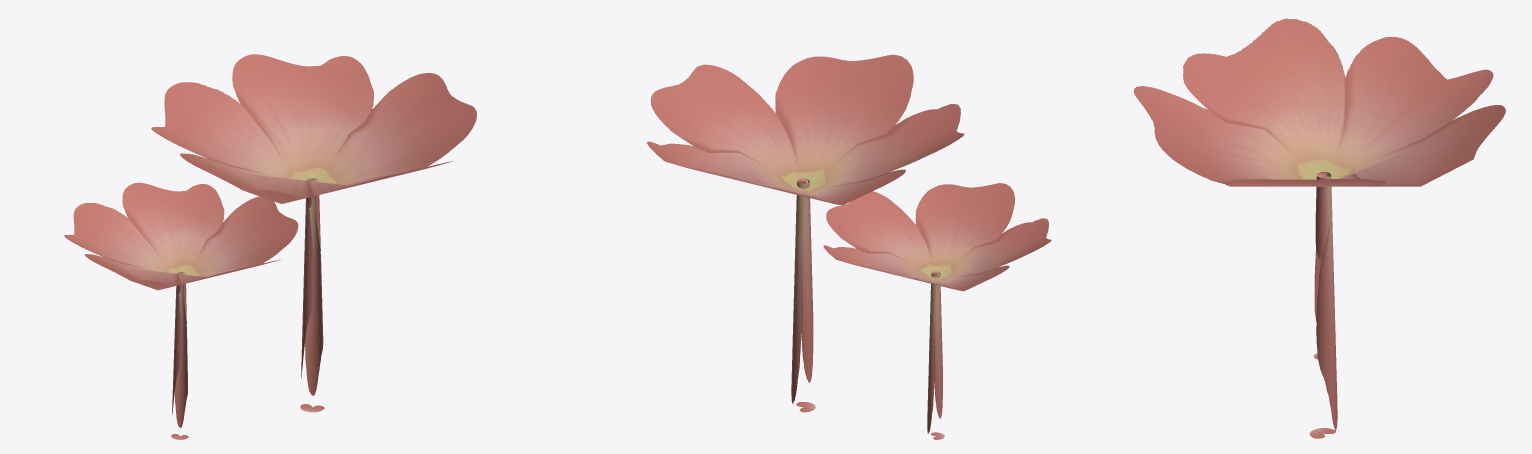
File: MOREFLOWERS.fbx
3 views of the same model, side by side, from view 1: azimuth 30°, elevation 25°; view 2: azimuth 150°, elevation 25°; view 3: azimuth 270°, elevation 25° (orthographic). The views are drawn at different scales.
Parts seen in each view (by area): view 1: Cylinder.004, Cylinder.005, Cylinder.003, Cylinder, Cylinder.001; view 2: Cylinder.003, Cylinder.005, Cylinder.004, Cylinder, Cylinder.001; view 3: Cylinder.003, Cylinder.004, Cylinder.
Boxes of the visible parts, bbox=[...] form: Cylinder.004: bbox=[151, 54, 452, 409]; Cylinder.005: bbox=[64, 182, 298, 290]; Cylinder.003: bbox=[172, 82, 476, 198]; Cylinder: bbox=[300, 178, 324, 412]; Cylinder.001: bbox=[171, 272, 188, 439]; Cylinder.003: bbox=[650, 54, 964, 205]; Cylinder.005: bbox=[823, 183, 1051, 291]; Cylinder.004: bbox=[647, 65, 883, 408]; Cylinder: bbox=[791, 178, 815, 412]; Cylinder.001: bbox=[927, 271, 944, 439]; Cylinder.003: bbox=[1134, 18, 1473, 186]; Cylinder.004: bbox=[1225, 23, 1505, 436]; Cylinder: bbox=[1310, 172, 1337, 438].
Bounding box in the file's own units: 131 × 96.25 × 100.
